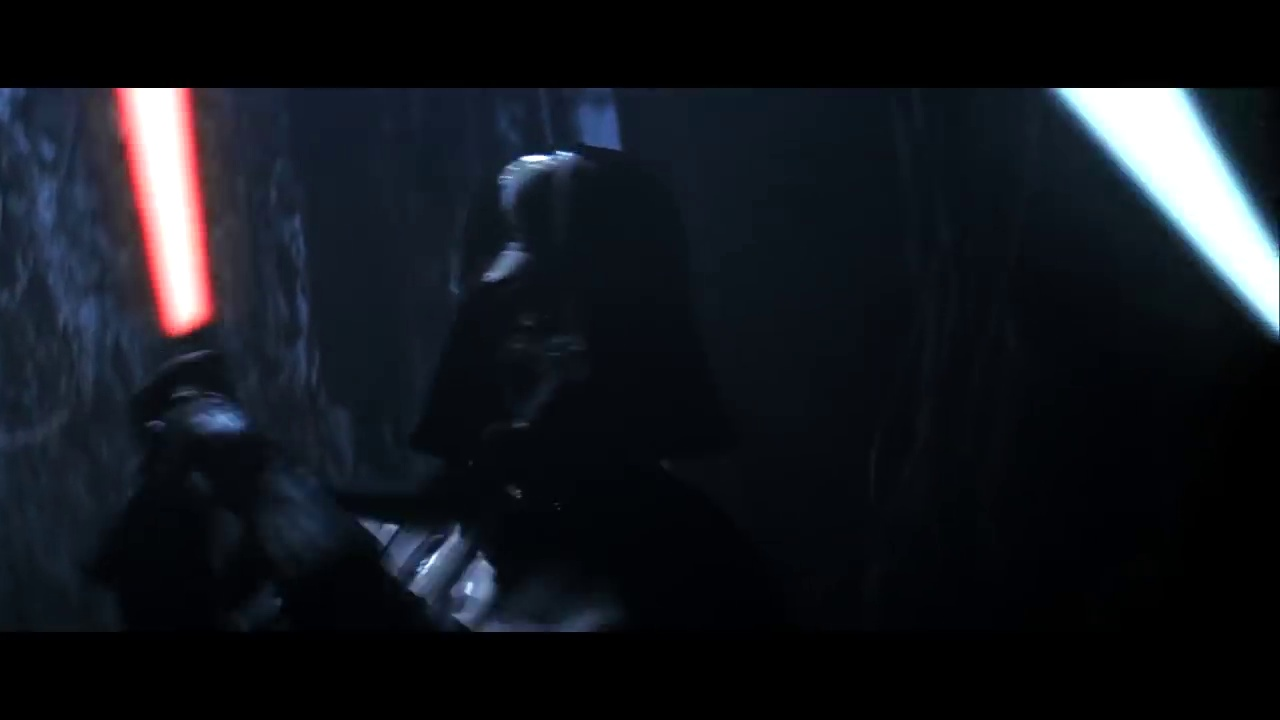lightsaber: (97, 86, 231, 352)
